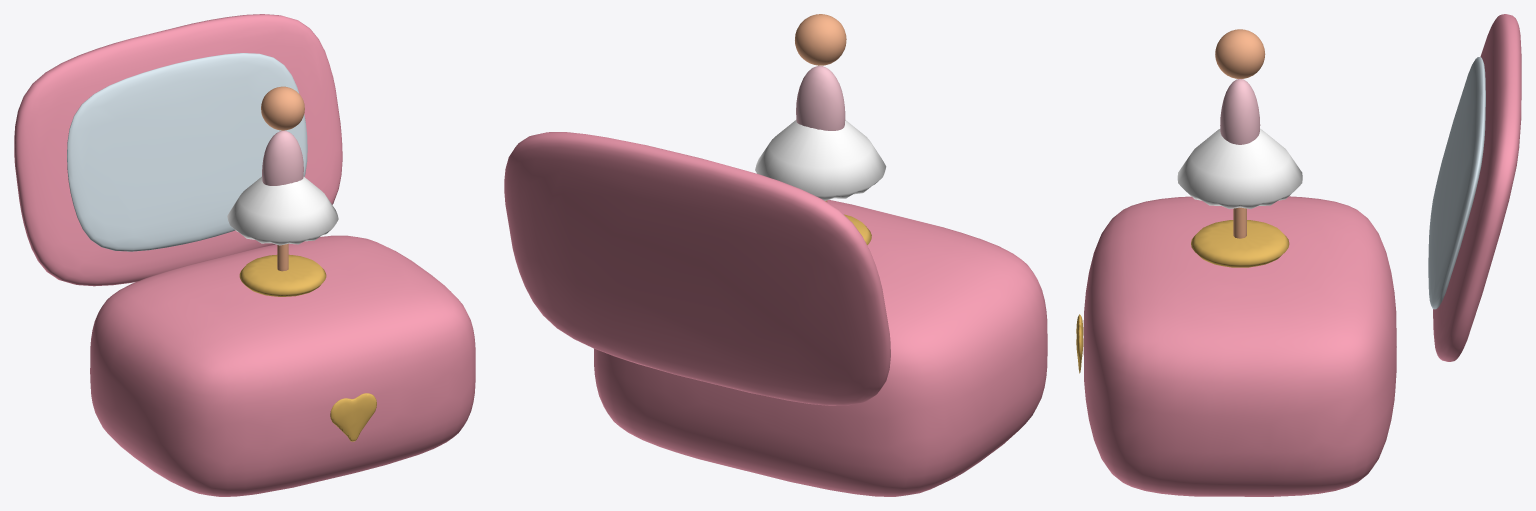
File: deco_caja_musical.glb
The picture shows the model from 3 angles, left to right: view 1: azimuth 30°, elevation 25°; view 2: azimuth 150°, elevation 25°; view 3: azimuth 270°, elevation 25°; orthographic projection. The views are drawn at different scales.
Parts seen in each view (by area): view 1: caja musical.001, espejo tapa.001, tapa musical.001, falda bailarina.001, pedestal bailarina.001, cuerpo bailarina.001, cabeza bailarina.001, corazón caja.001; view 2: tapa musical.001, caja musical.001, falda bailarina.001, cuerpo bailarina.001, cabeza bailarina.001; view 3: caja musical.001, tapa musical.001, espejo tapa.001, falda bailarina.001, pedestal bailarina.001, cuerpo bailarina.001, cabeza bailarina.001.
Part boxes in pixels (left/top/right/bottom): caja musical.001: left=90, top=235, right=475, bottom=496; espejo tapa.001: left=67, top=53, right=307, bottom=251; tapa musical.001: left=14, top=14, right=342, bottom=286; falda bailarina.001: left=227, top=176, right=338, bottom=245; pedestal bailarina.001: left=239, top=254, right=326, bottom=296; cuerpo bailarina.001: left=262, top=130, right=303, bottom=185; cabeza bailarina.001: left=261, top=86, right=304, bottom=130; corazón caja.001: left=330, top=393, right=376, bottom=441; tapa musical.001: left=504, top=132, right=890, bottom=405; caja musical.001: left=594, top=200, right=1047, bottom=496; falda bailarina.001: left=755, top=120, right=886, bottom=200; cuerpo bailarina.001: left=796, top=65, right=845, bottom=130; cabeza bailarina.001: left=795, top=14, right=846, bottom=65; caja musical.001: left=1083, top=196, right=1396, bottom=496; tapa musical.001: left=1433, top=14, right=1521, bottom=361; espejo tapa.001: left=1428, top=57, right=1485, bottom=309; falda bailarina.001: left=1177, top=128, right=1302, bottom=208; pedestal bailarina.001: left=1191, top=220, right=1289, bottom=267; cuerpo bailarina.001: left=1220, top=79, right=1260, bottom=144; cabeza bailarina.001: left=1215, top=29, right=1265, bottom=78.
Bounding box in the file's own units: 0.2398 × 0.2592 × 0.2555.
